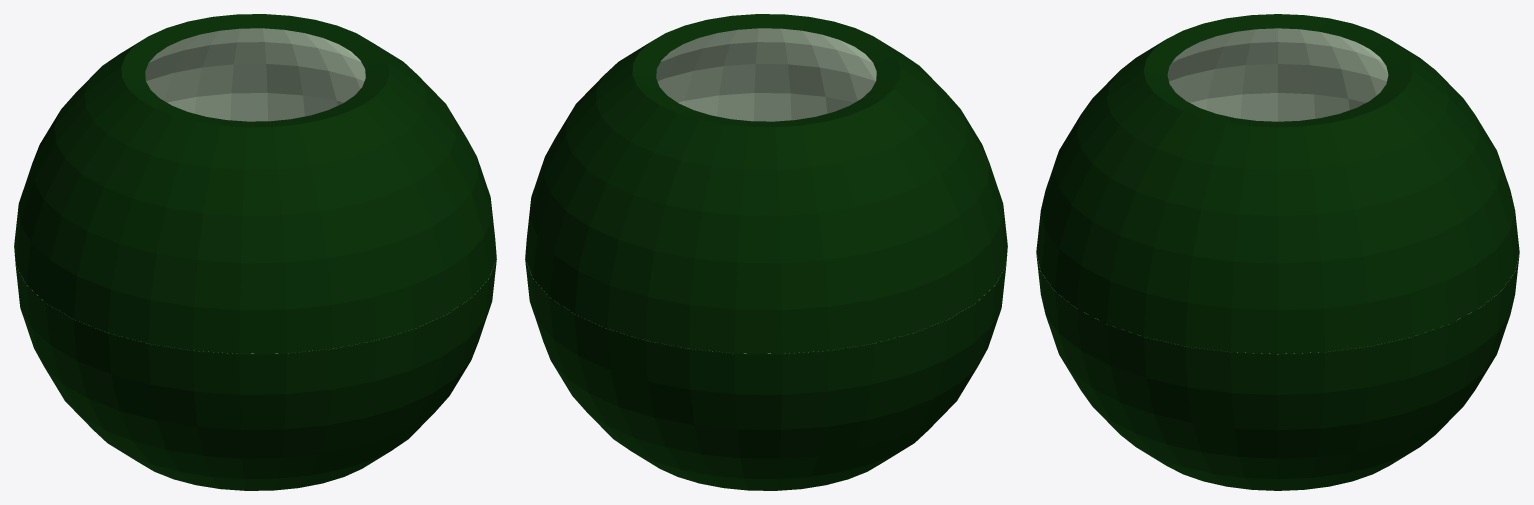
The model's file is olive.fbx.
3 renders of one model, left to right at view 1: azimuth 30°, elevation 25°; view 2: azimuth 150°, elevation 25°; view 3: azimuth 270°, elevation 25°, orthographic.
Visible parts, largest first — view 1: Sphere.002, Sphere.001; view 2: Sphere.002, Sphere.001; view 3: Sphere.002, Sphere.001.
Boxes of the visible parts, bbox=[...] form: Sphere.002: bbox=[14, 14, 496, 354]; Sphere.001: bbox=[14, 241, 496, 490]; Sphere.002: bbox=[525, 14, 1007, 354]; Sphere.001: bbox=[525, 241, 1007, 490]; Sphere.002: bbox=[1036, 14, 1519, 354]; Sphere.001: bbox=[1036, 253, 1519, 490].
Size of the model in its own units: 2 by 1.66 by 2.
